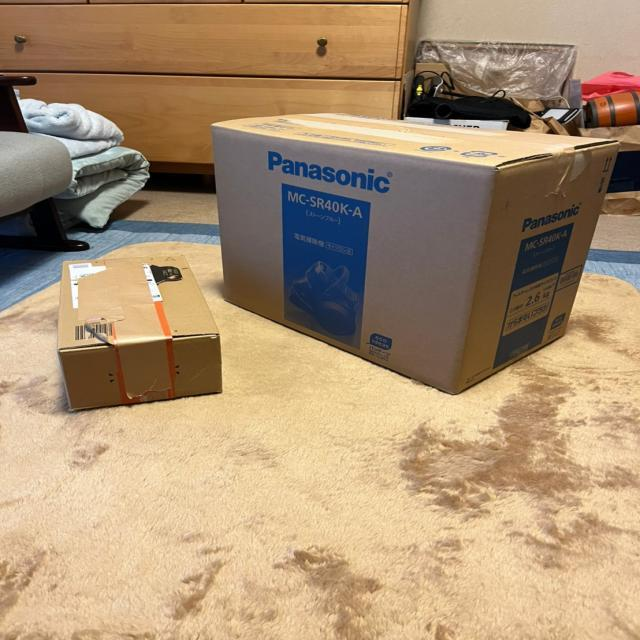-: (205, 108, 627, 399), (49, 248, 232, 418)
